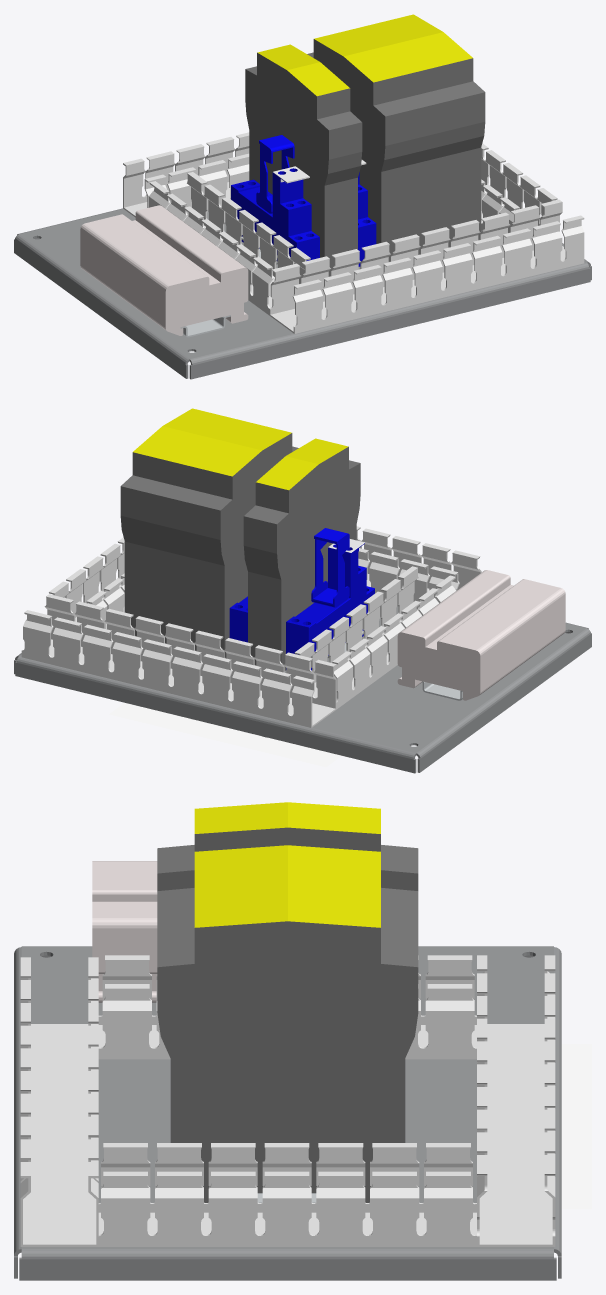
Rendered from modelo.glb.
3 renders of one model, top to bottom at view 1: azimuth 30°, elevation 25°; view 2: azimuth 150°, elevation 25°; view 3: azimuth 270°, elevation 25°, orthographic. The views are drawn at different scales.
Visible parts, largest first — view 1: CM QUADRO ELETRICO NR12; view 2: CM QUADRO ELETRICO NR12, ImageTargetPreview; view 3: CM QUADRO ELETRICO NR12, ImageTargetPreview.
Part boxes in pixels (x1=…): CM QUADRO ELETRICO NR12: x1=14, y1=14, x2=591, y2=379; CM QUADRO ELETRICO NR12: x1=14, y1=408, x2=591, y2=773; ImageTargetPreview: x1=109, y1=703, x2=341, y2=767; CM QUADRO ELETRICO NR12: x1=14, y1=802, x2=561, y2=1280; ImageTargetPreview: x1=561, y1=1044, x2=591, y2=1209.
Size of the model in its own units: 280 by 136 by 222.
Materials: 12 (1 with a texture image).
